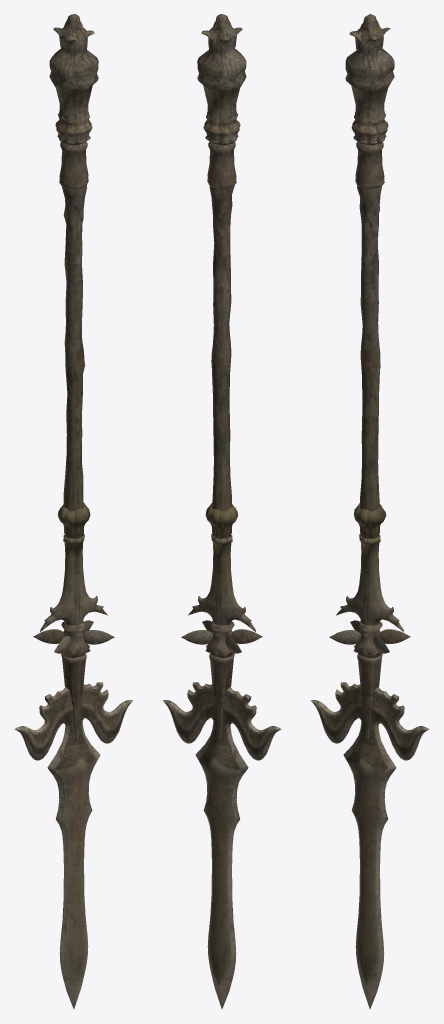
File: weapon-wp_a_0939.glb
The picture shows the model from 3 angles, left to right: view 1: azimuth 30°, elevation 25°; view 2: azimuth 150°, elevation 25°; view 3: azimuth 330°, elevation 25°; orthographic projection.
Visible parts, largest first — view 1: wp_a_0939_mesh; view 2: wp_a_0939_mesh; view 3: wp_a_0939_mesh.
Part boxes in pixels (box(x1,y1,x2,y2)): wp_a_0939_mesh: box(14, 14, 132, 1009); wp_a_0939_mesh: box(163, 14, 281, 1009); wp_a_0939_mesh: box(311, 14, 429, 1009).
Bounding box in the file's own units: 0.3735 × 2.98 × 0.1381.
1 material, 1 textured.
